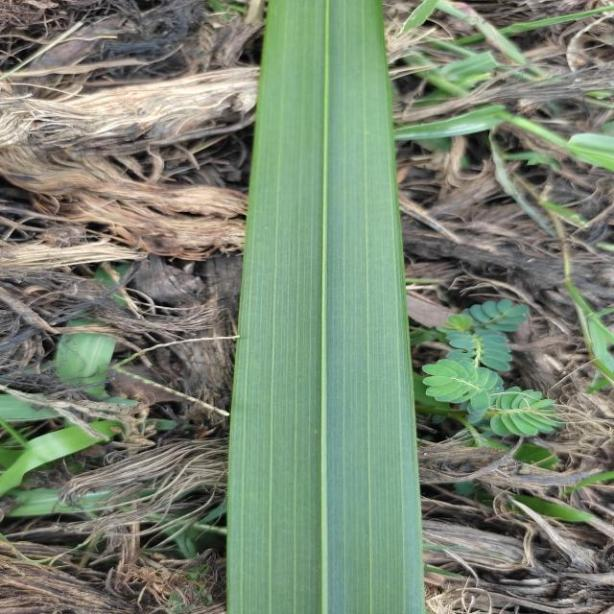Healthy: (226, 0, 422, 614)
